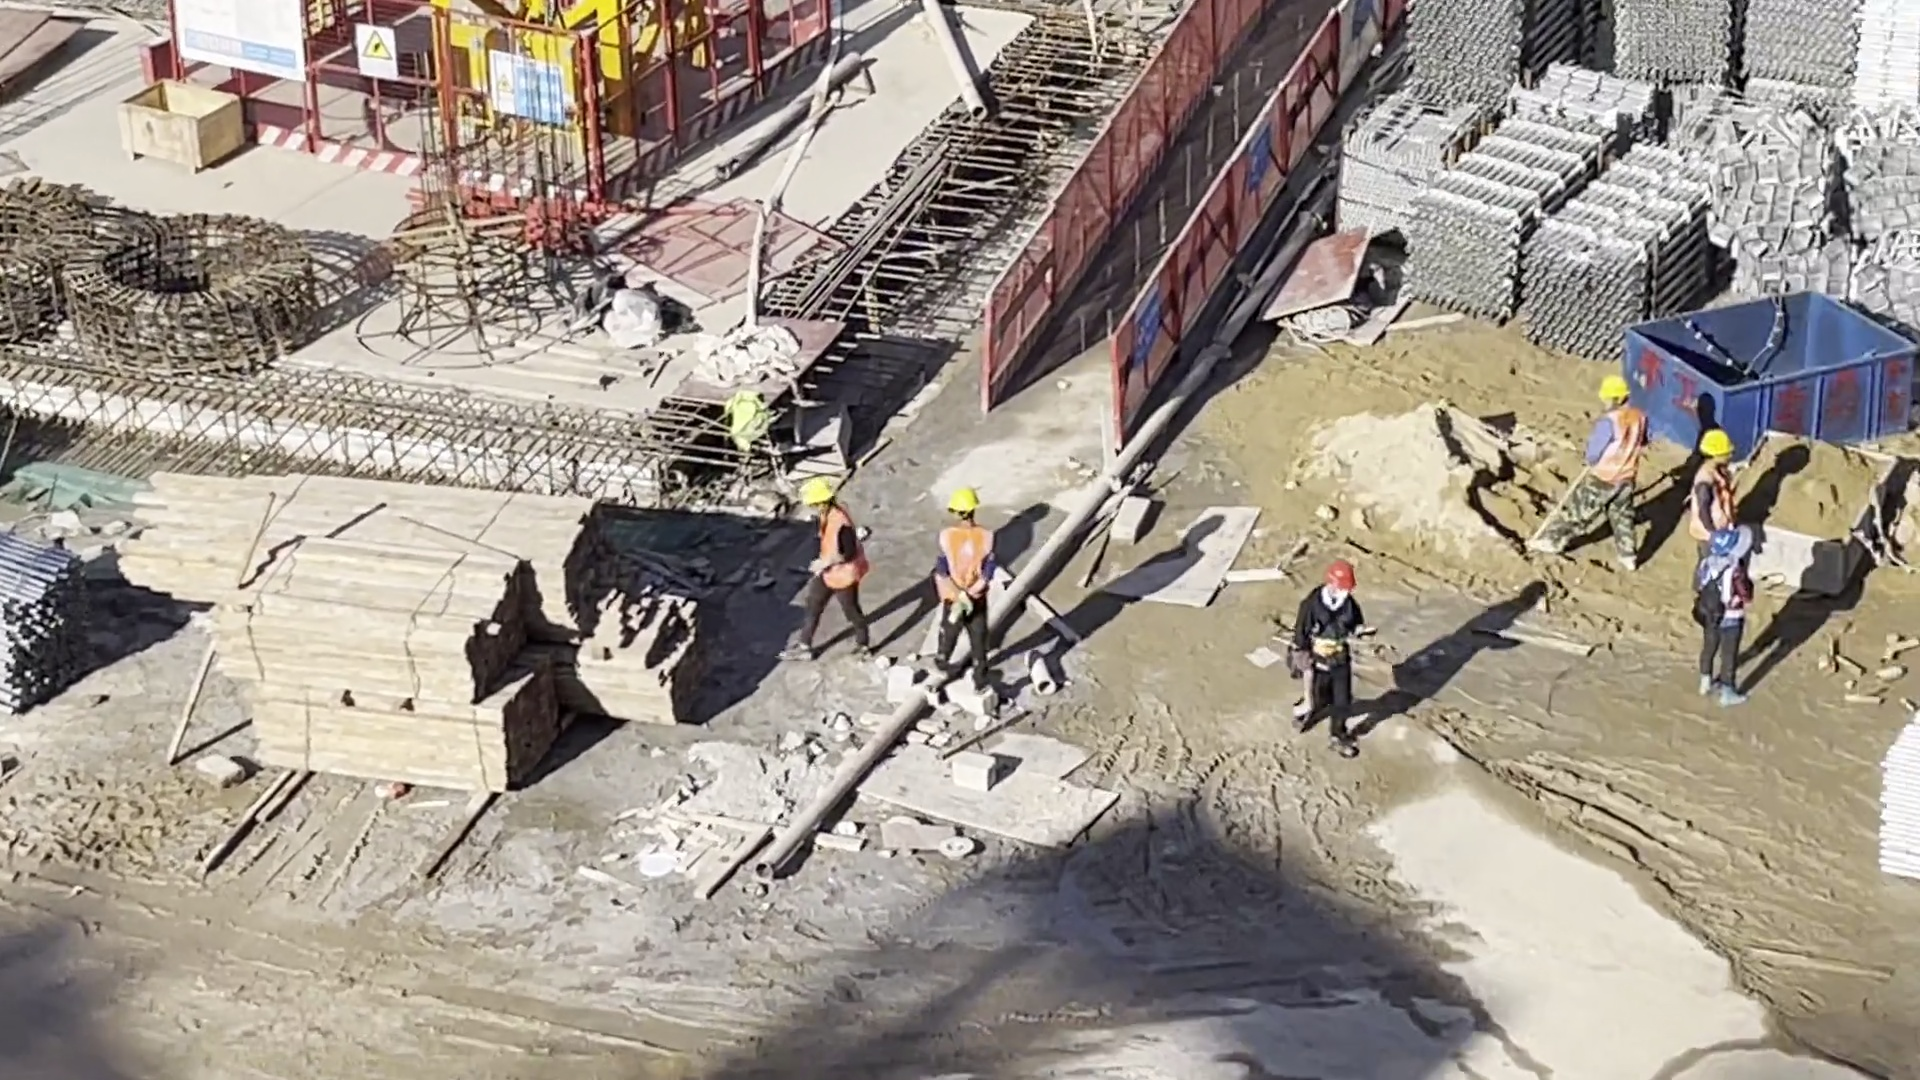fence: (997, 1, 1394, 433)
helmet: (1699, 429, 1733, 456), (1325, 562, 1356, 590), (1599, 375, 1631, 399), (947, 489, 978, 513), (801, 481, 832, 504), (1714, 532, 1737, 555)
hopper: (1632, 293, 1916, 465), (1735, 426, 1900, 599)
person: (785, 481, 873, 664), (1292, 562, 1366, 756), (931, 489, 997, 695), (1585, 375, 1639, 570), (1706, 526, 1747, 704), (1693, 430, 1732, 572)
scaffold: (1412, 120, 1706, 345), (1625, 1, 1920, 115), (1404, 4, 1611, 101), (1, 544, 83, 710), (1879, 709, 1920, 871)
slogan: (489, 53, 562, 126), (358, 23, 397, 76), (1243, 119, 1271, 195), (1138, 287, 1159, 369)
vest: (932, 526, 993, 610), (816, 518, 873, 593), (1597, 411, 1636, 484), (1690, 468, 1732, 535), (1700, 558, 1736, 618)
wood: (227, 547, 561, 789), (139, 472, 605, 639)
